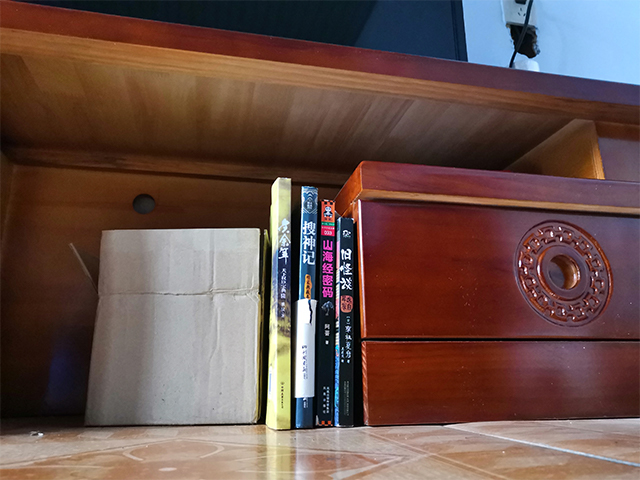book: (264, 174, 358, 431)
cabinet: (1, 1, 640, 429)
